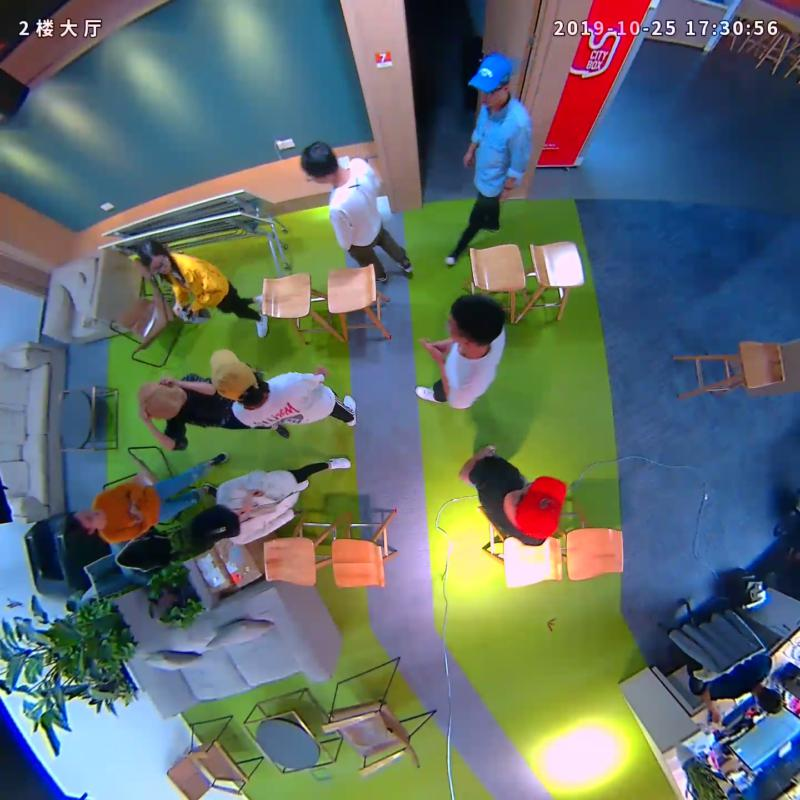head: (512, 475, 568, 540), (449, 294, 505, 345), (466, 52, 515, 107), (209, 348, 259, 401), (137, 379, 183, 422), (191, 505, 241, 541), (299, 142, 339, 185), (135, 239, 172, 275), (63, 507, 106, 535)
